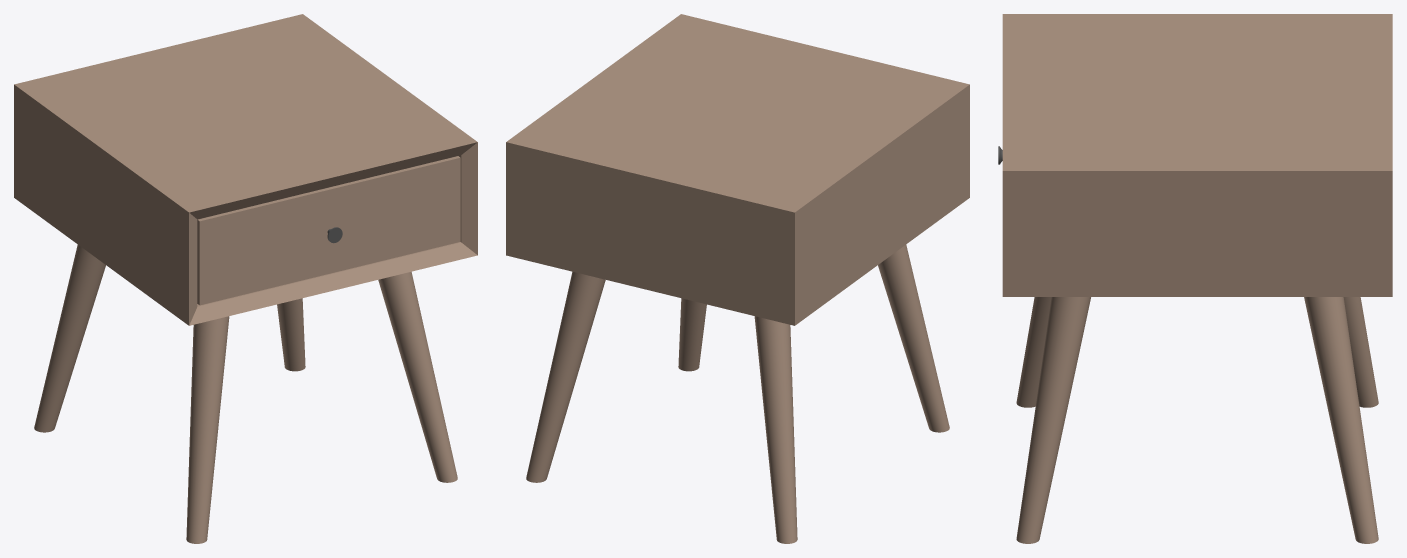
File: 488_サイドテーブル.glb
3 renders of one model, left to right at view 1: azimuth 30°, elevation 25°; view 2: azimuth 150°, elevation 25°; view 3: azimuth 270°, elevation 25°, orthographic. The views are drawn at different scales.
Visible parts, largest first — view 1: body, hikidashi; view 2: body; view 3: body.
Part boxes in pixels (box(x1,y1,x2,y2)): body: box(14, 14, 477, 543); hikidashi: box(197, 156, 460, 305); body: box(506, 14, 969, 543); body: box(1002, 14, 1392, 543).
Bounding box in the file's own units: 0.4 × 0.45 × 0.4246.
